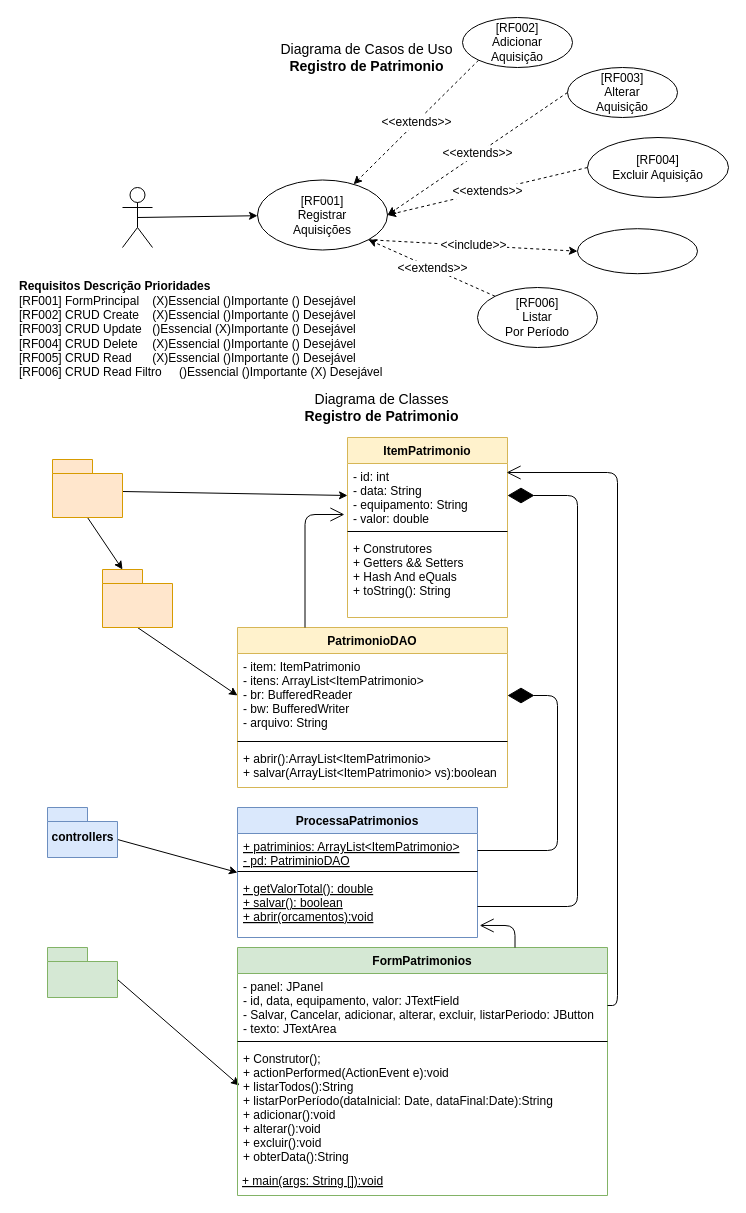
Some shapes in this 746 by 1213 pixel diagram are drawn without their labels. Each missing label, with the centre of its shape:
"[RF005] Listar Todos" belongs at (x=637, y=251).
"Analista de Inventário" belongs at (x=137, y=217).
"dao" belongs at (x=137, y=598).
"models" belongs at (x=87, y=488).
"viewers" belongs at (x=82, y=972).
